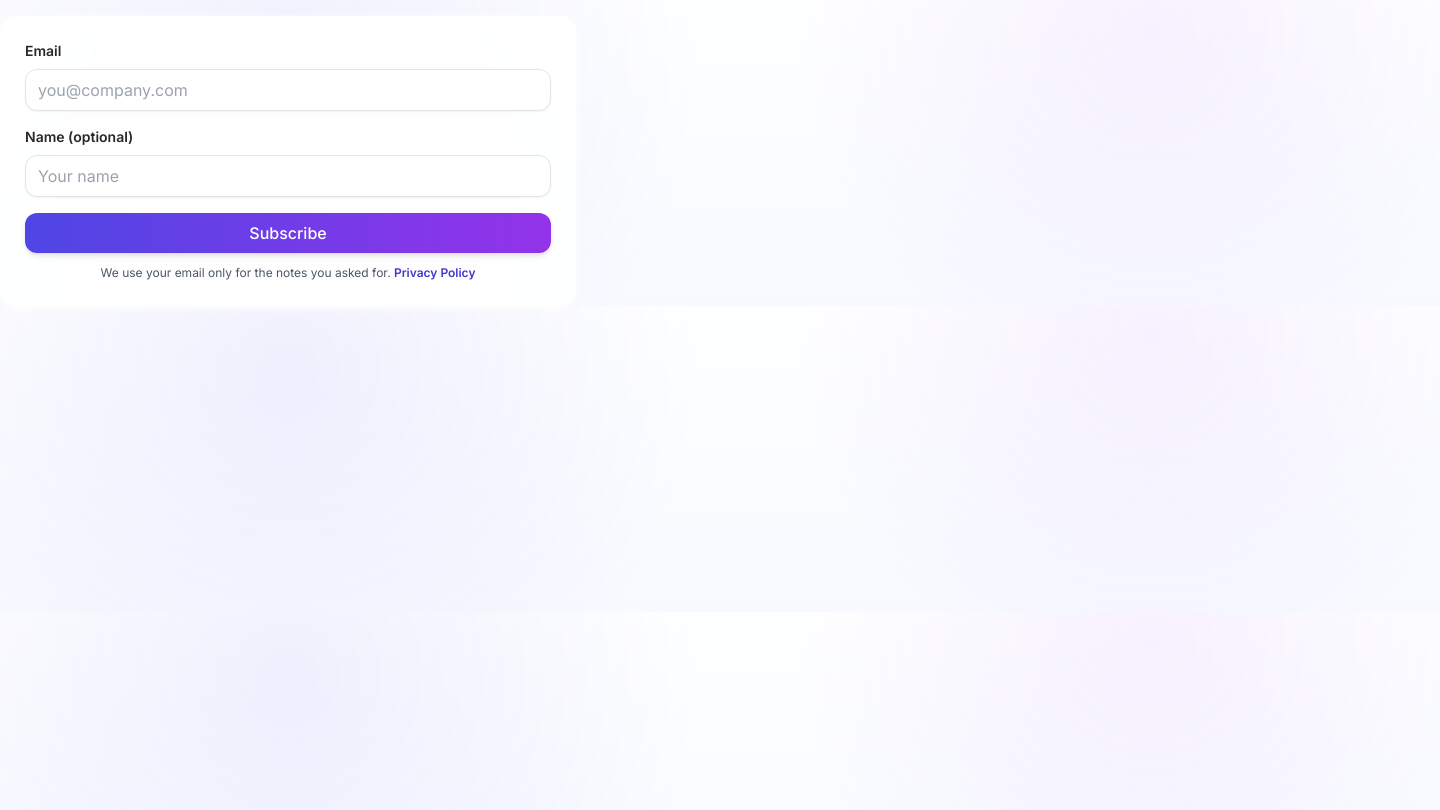
Test case: subscribe form › a sign-up posts the fields and thanks the person
Type "person@example.com" into the field labelled "Email".
click(288, 90); type("person@example.com")  # box [25,69,551,111]
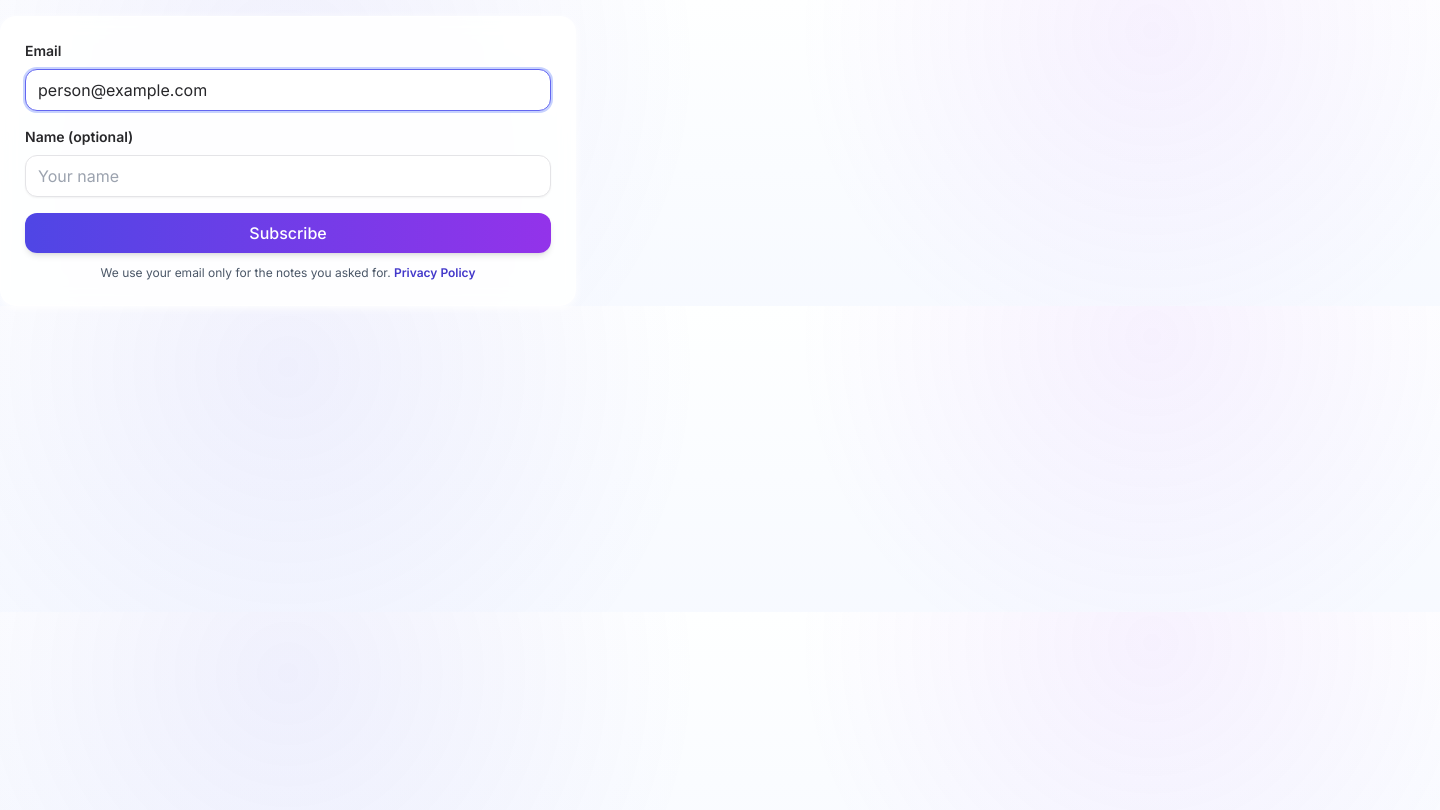
Type "Ada" into the field labelled "Name (optional)".
click(288, 176); type("Ada")  # box [25,155,551,197]
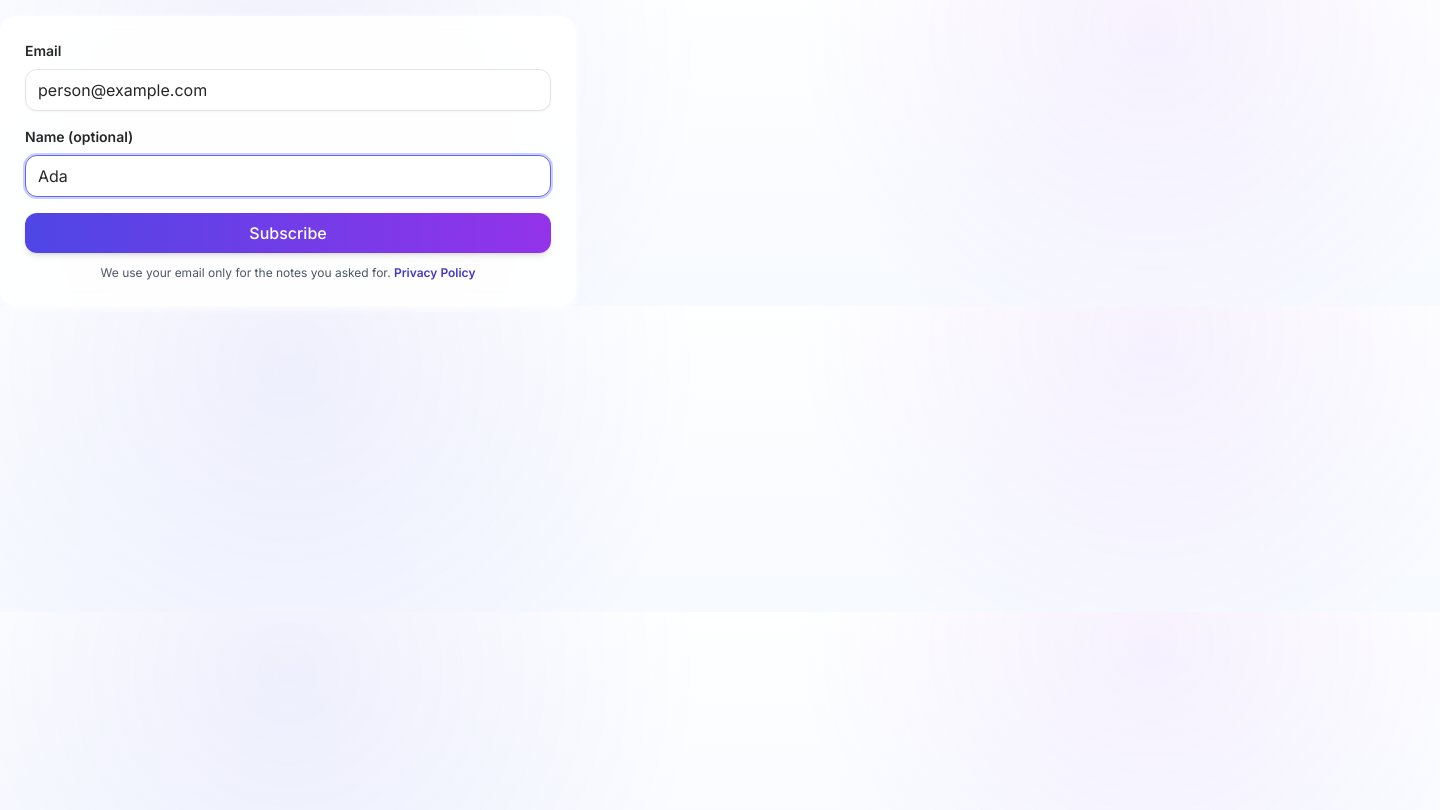
Click the button "Subscribe".
click(288, 233)  # box [25,213,551,253]
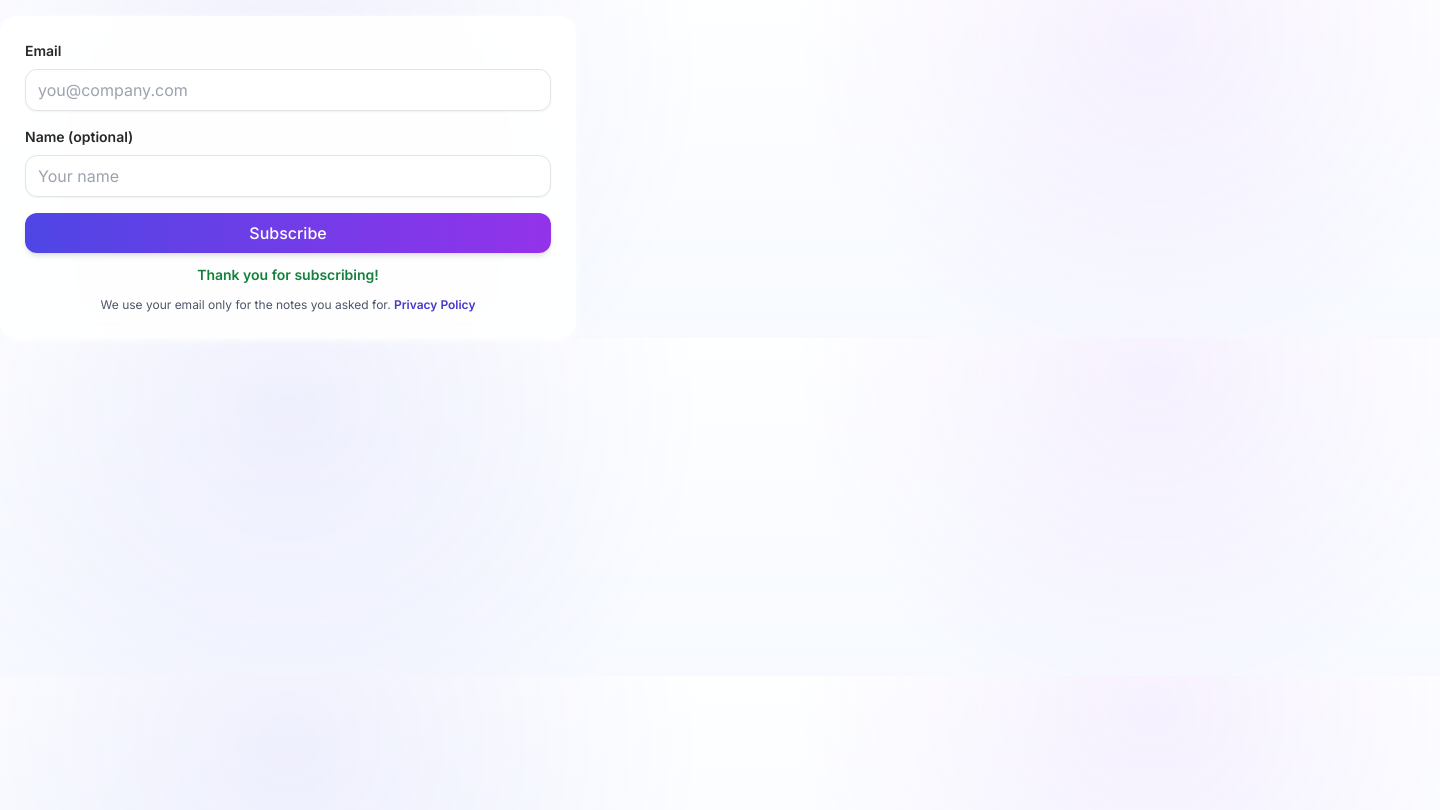
Now the message reads "Thank you for subscribing!", box [197,266,379,283]
Now the field labelled "Email" is empty, box [25,69,551,111]
